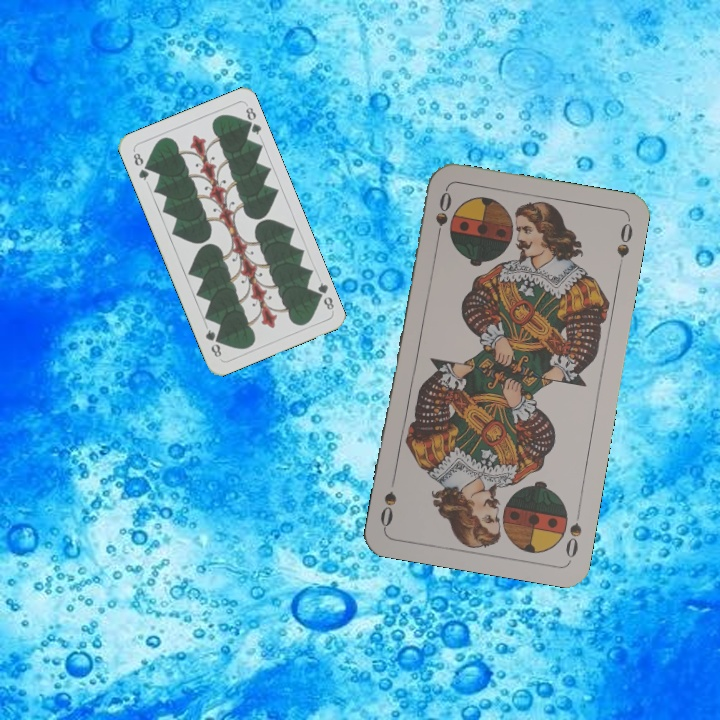G8: (310, 278, 337, 314), (129, 147, 151, 183)
SO: (561, 504, 585, 561), (431, 186, 454, 245)
